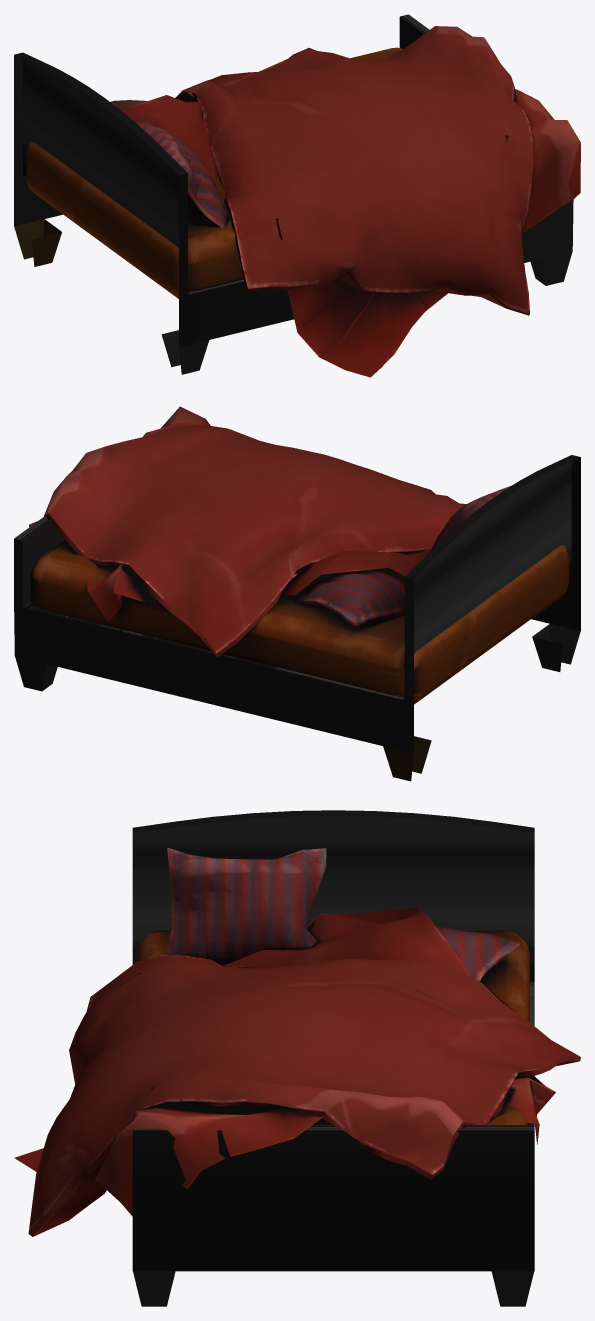
File: RE_RBedBed.FBX
3 renders of one model, top to bottom at view 1: azimuth 30°, elevation 25°; view 2: azimuth 150°, elevation 25°; view 3: azimuth 270°, elevation 25°, orthographic. The views are drawn at different scales.
Visible parts, largest first — view 1: RE_RBedBed; view 2: RE_RBedBed; view 3: RE_RBedBed.
Part boxes in pixels (box(x1,y1,x2,y2)): RE_RBedBed: box(14, 14, 580, 377); RE_RBedBed: box(14, 406, 580, 781); RE_RBedBed: box(14, 810, 580, 1306).
Bounding box in the file's own units: 160 × 78.98 × 153.
Materials: 2 (2 with a texture image).
